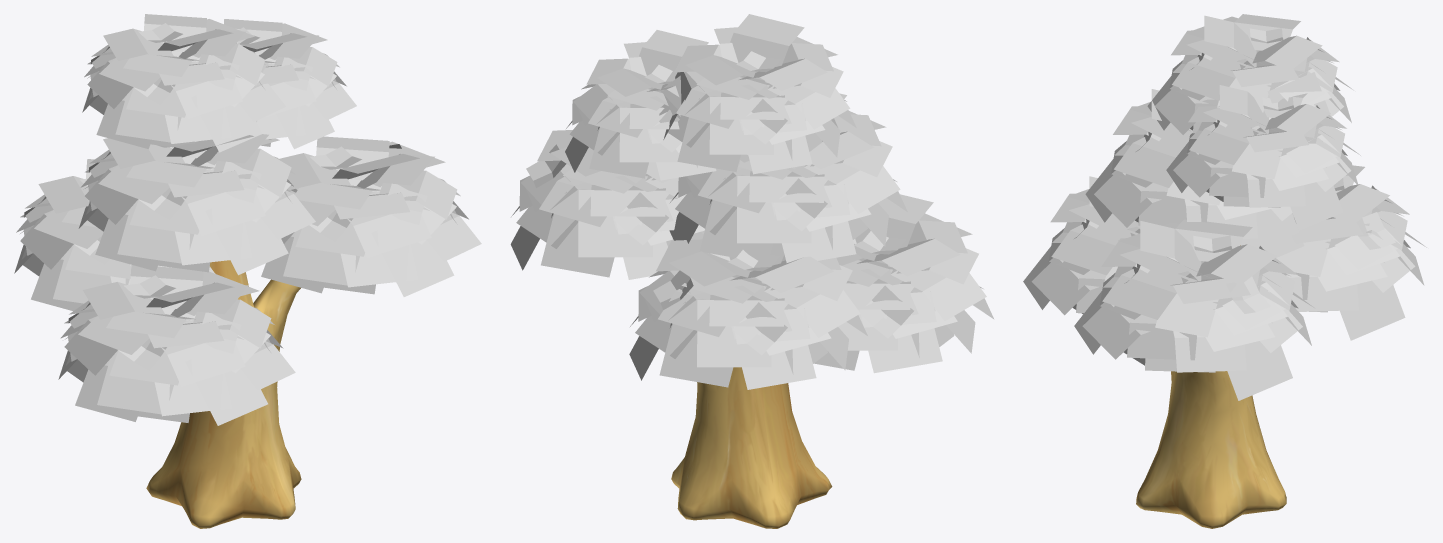
Rendered from Peach_tree.fbx.
The picture shows the model from 3 angles, left to right: view 1: azimuth 30°, elevation 25°; view 2: azimuth 150°, elevation 25°; view 3: azimuth 270°, elevation 25°; orthographic projection. The views are drawn at different scales.
Visible parts, largest first — view 1: Peach_tree; view 2: Peach_tree; view 3: Peach_tree.
Part boxes in pixels (bbox=[...]): Peach_tree: bbox=[14, 14, 481, 528]; Peach_tree: bbox=[510, 14, 994, 528]; Peach_tree: bbox=[1023, 14, 1426, 528].
Size of the model in its own units: 1.5 by 1.64 by 1.32.
